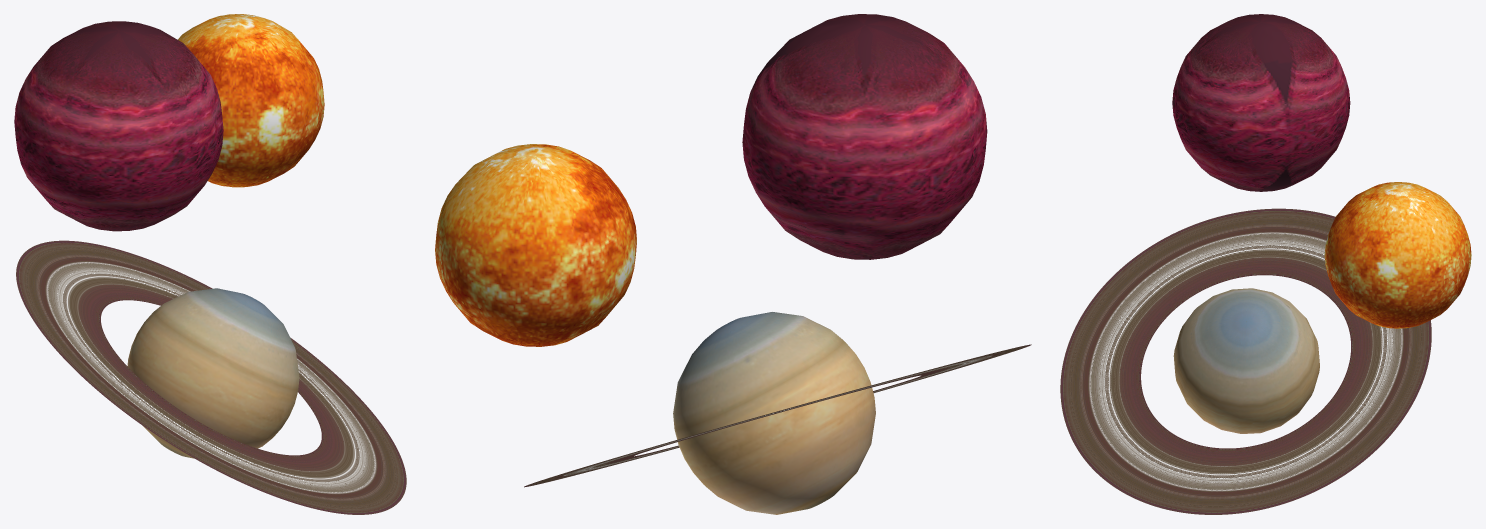
File: Galaxy.fbx
The picture shows the model from 3 angles, left to right: view 1: azimuth 30°, elevation 25°; view 2: azimuth 150°, elevation 25°; view 3: azimuth 270°, elevation 25°; orthographic projection. The views are drawn at different scales.
Visible parts, largest first — view 1: PlanetsModel2; view 2: PlanetsModel2; view 3: PlanetsModel2.
Boxes of the visible parts, x1,y1,x2,y2 form: PlanetsModel2: (14, 14, 406, 514); PlanetsModel2: (435, 14, 1031, 514); PlanetsModel2: (1060, 14, 1471, 514).
Bounding box in the file's own units: 3.69 × 4.45 × 4.24.
